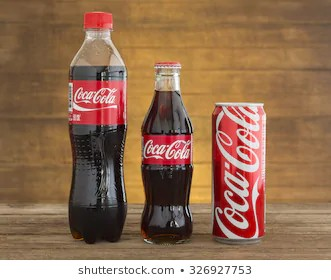coke-bottle-700ml: (60, 6, 135, 245)
coke-can: (210, 101, 269, 241)
coke-glass-bottle: (138, 61, 199, 245)
